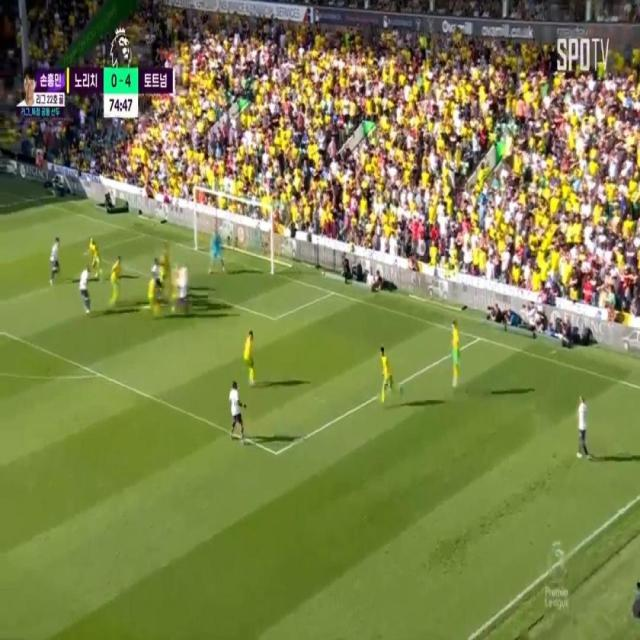goalkeeper: (209, 219, 228, 283)
player: (450, 315, 465, 389), (240, 331, 259, 386), (380, 340, 393, 409), (81, 263, 97, 315), (180, 262, 196, 312), (158, 239, 171, 300), (112, 250, 123, 312), (232, 379, 241, 441), (51, 234, 63, 280), (149, 274, 160, 322), (579, 394, 586, 453), (89, 234, 100, 269)
